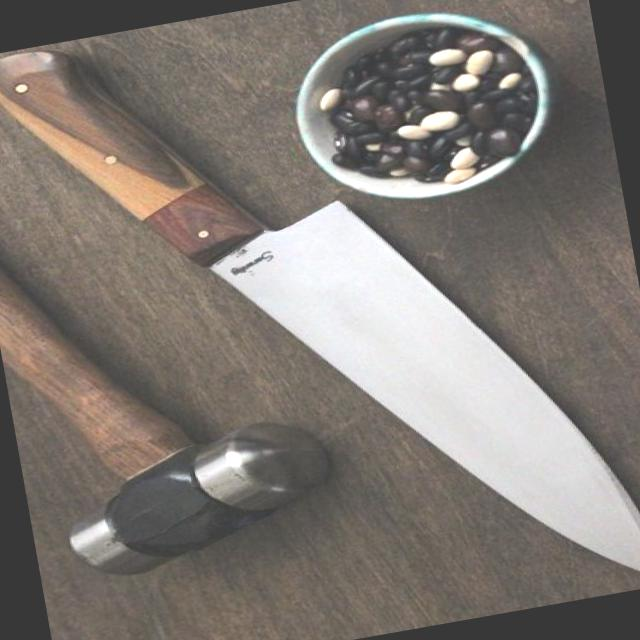knife: (186, 149, 639, 639)
